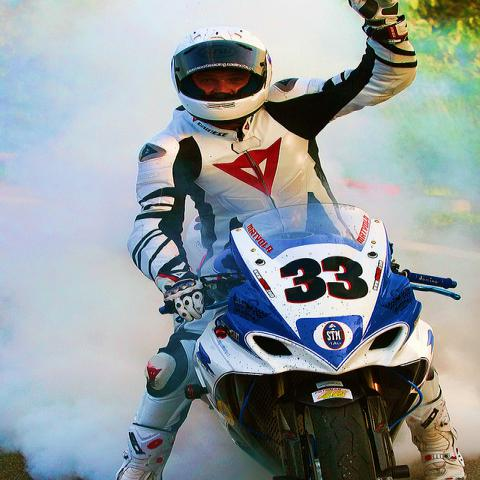motorcycle: (160, 203, 469, 480)
